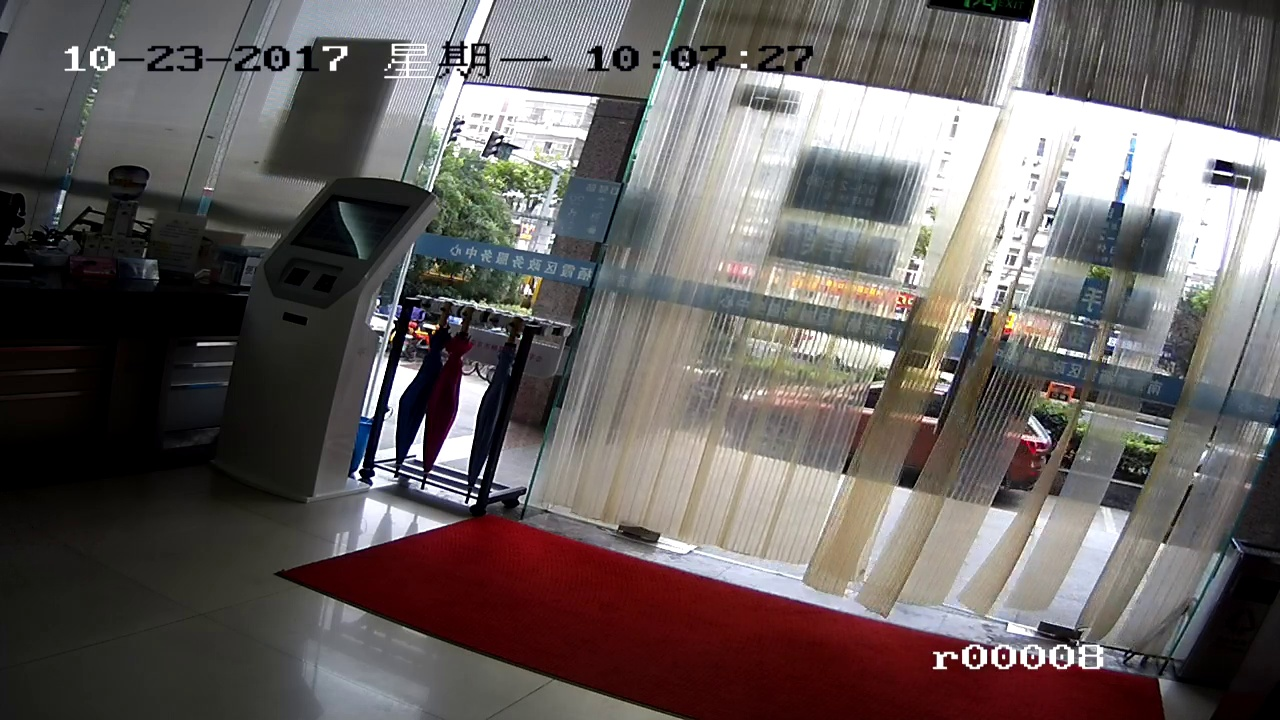monitor: (303, 191, 388, 265)
